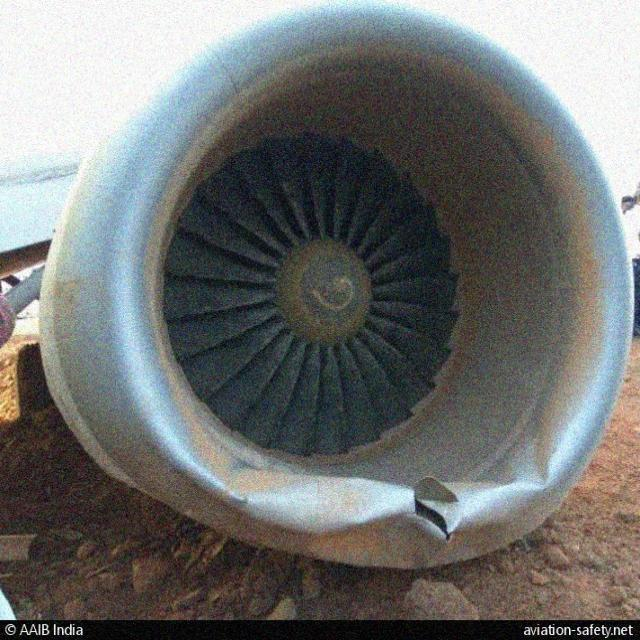crack: (410, 493, 456, 544)
dent: (254, 475, 406, 533), (504, 436, 556, 491)
